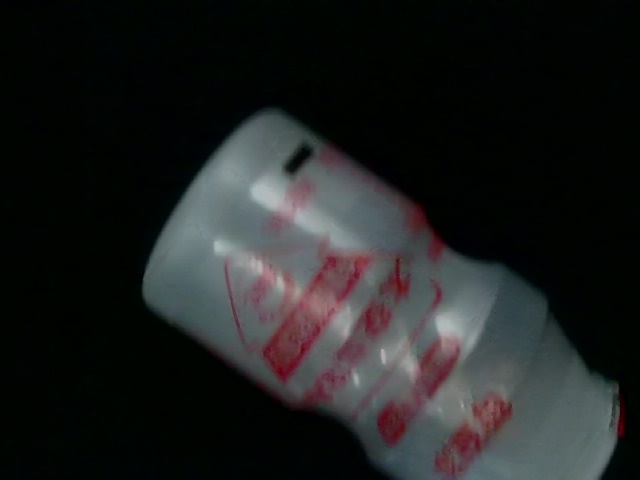CYLJ: (22, 296, 123, 405)
